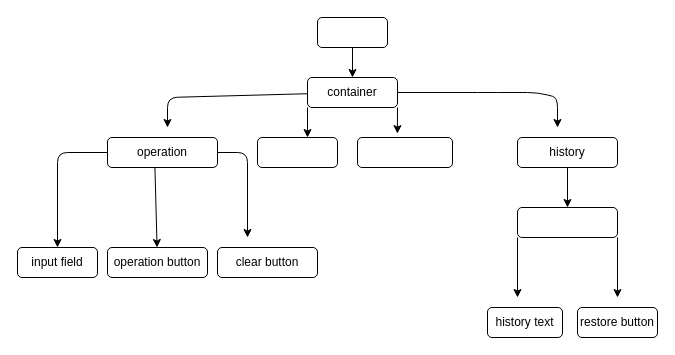
Image size: 675x355. Some labels were removed from this diagram. The centre of each missing label's shape, as x and y in pixels:
"App" belongs at (352,32).
"history heading" belongs at (404,152).
"history item" belongs at (567,222).
"result heading" belongs at (297,152).
